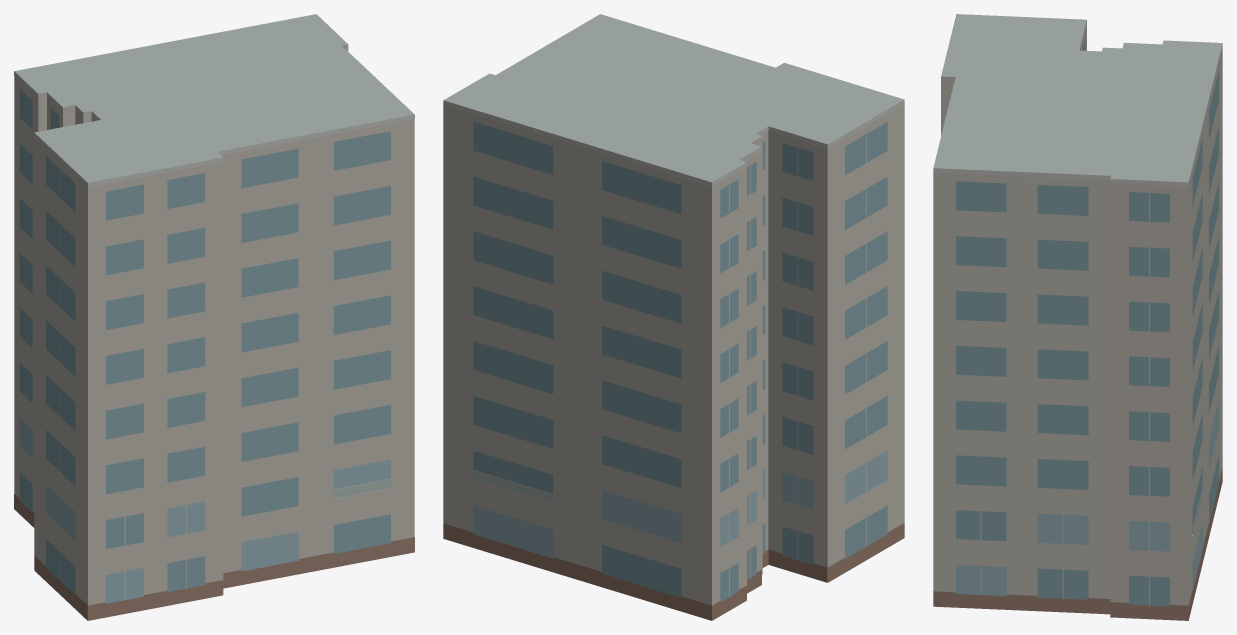
Rendered from survey-upis-32565234.glb.
The picture shows the model from 3 angles, left to right: view 1: azimuth 30°, elevation 25°; view 2: azimuth 150°, elevation 25°; view 3: azimuth 270°, elevation 25°; orthographic projection.
Parts seen in each view (by area): view 1: survey-upis-32565234.tmp; view 2: survey-upis-32565234.tmp; view 3: survey-upis-32565234.tmp.
Boxes of the visible parts, x1,y1,x2,y2 form: survey-upis-32565234.tmp: [14, 14, 414, 620]; survey-upis-32565234.tmp: [443, 14, 904, 620]; survey-upis-32565234.tmp: [933, 14, 1222, 620].
Size of the model in its own units: 19.74 by 23.95 by 14.33.
